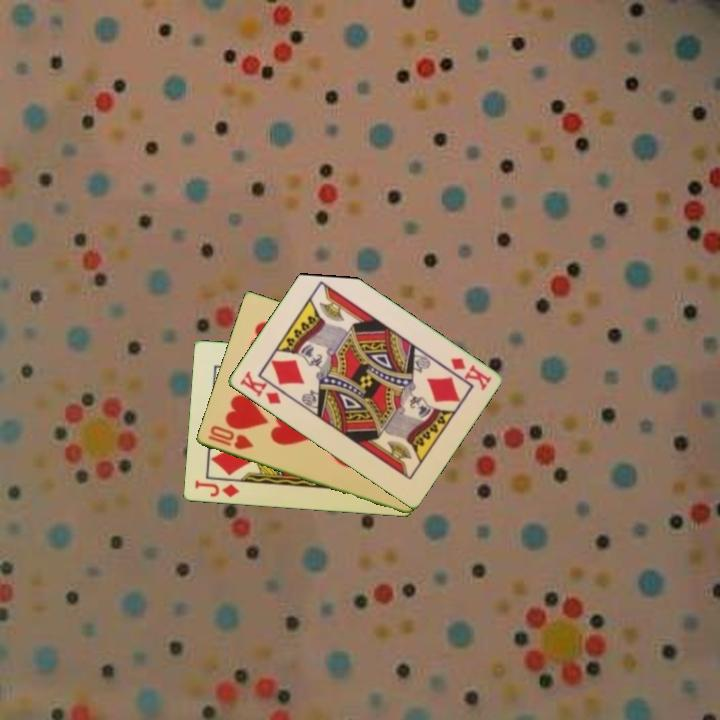10h: (204, 422, 256, 453)
Jd: (191, 477, 242, 500)
Kd: (236, 367, 284, 407), (446, 354, 494, 393)
